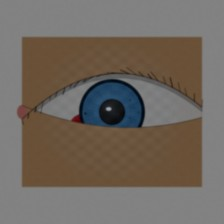hemorrhage_spot: (58, 88, 147, 159)
